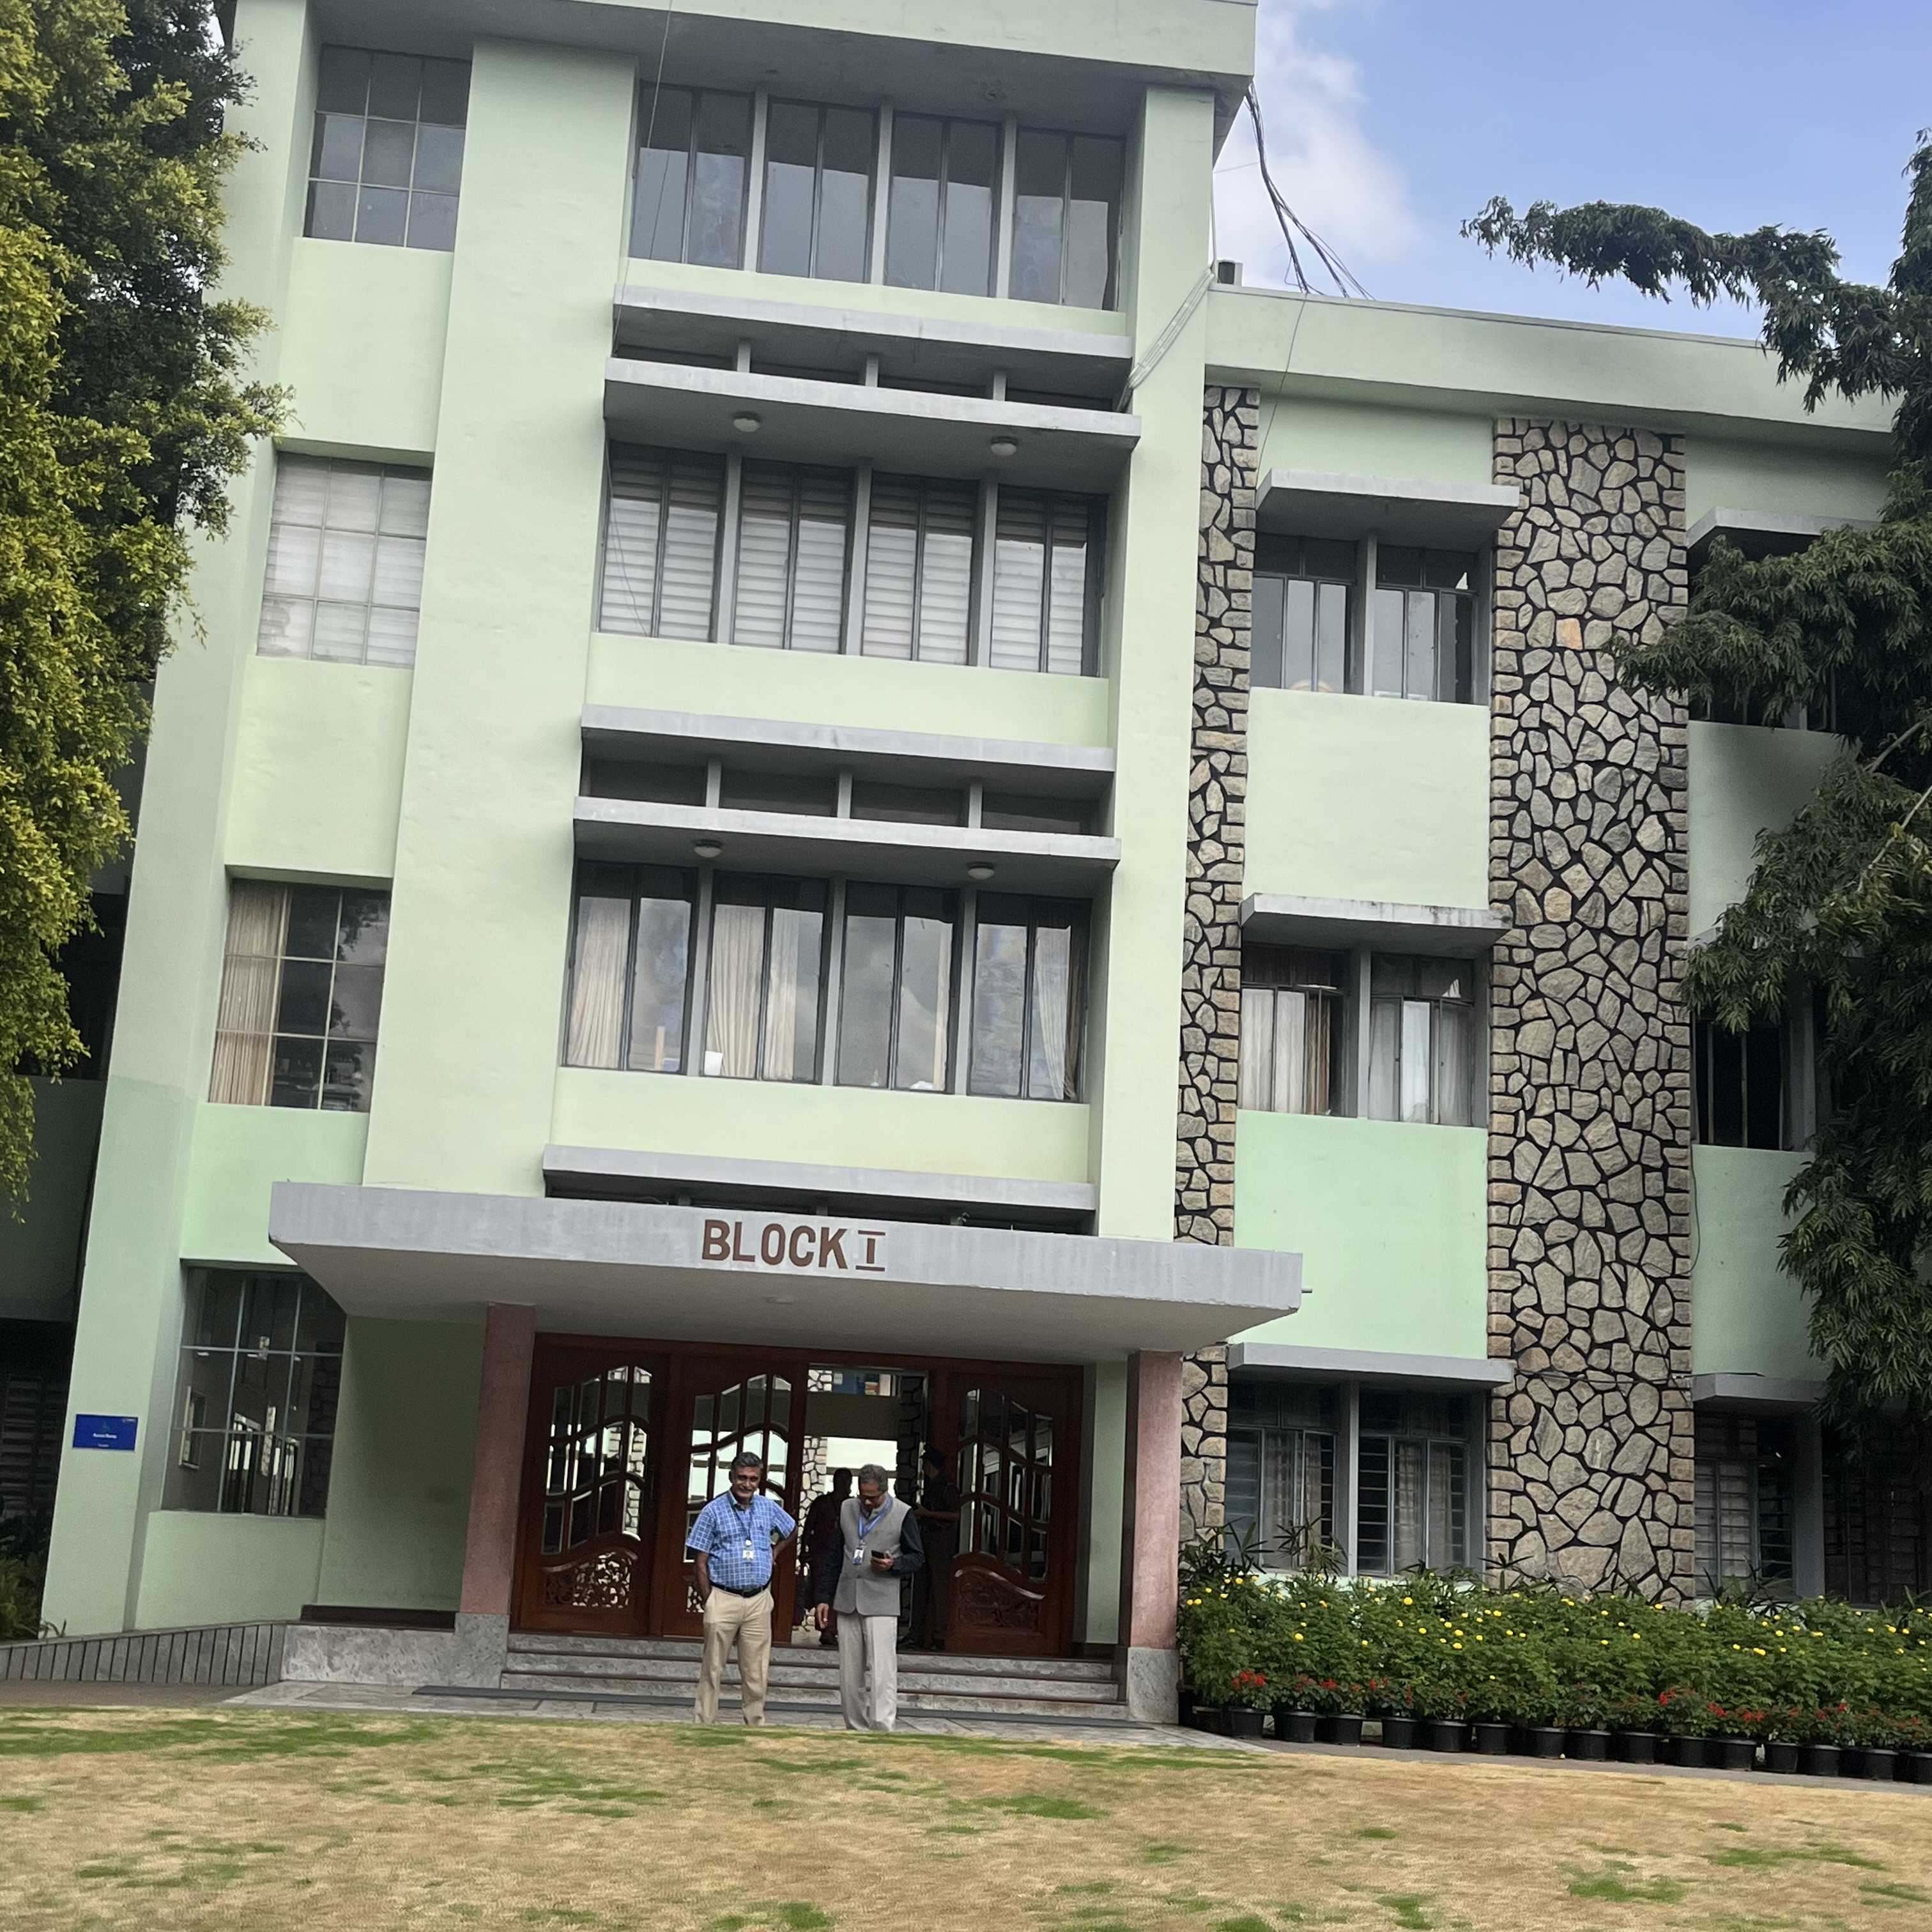Block 1: (272, 9, 1805, 1619)
